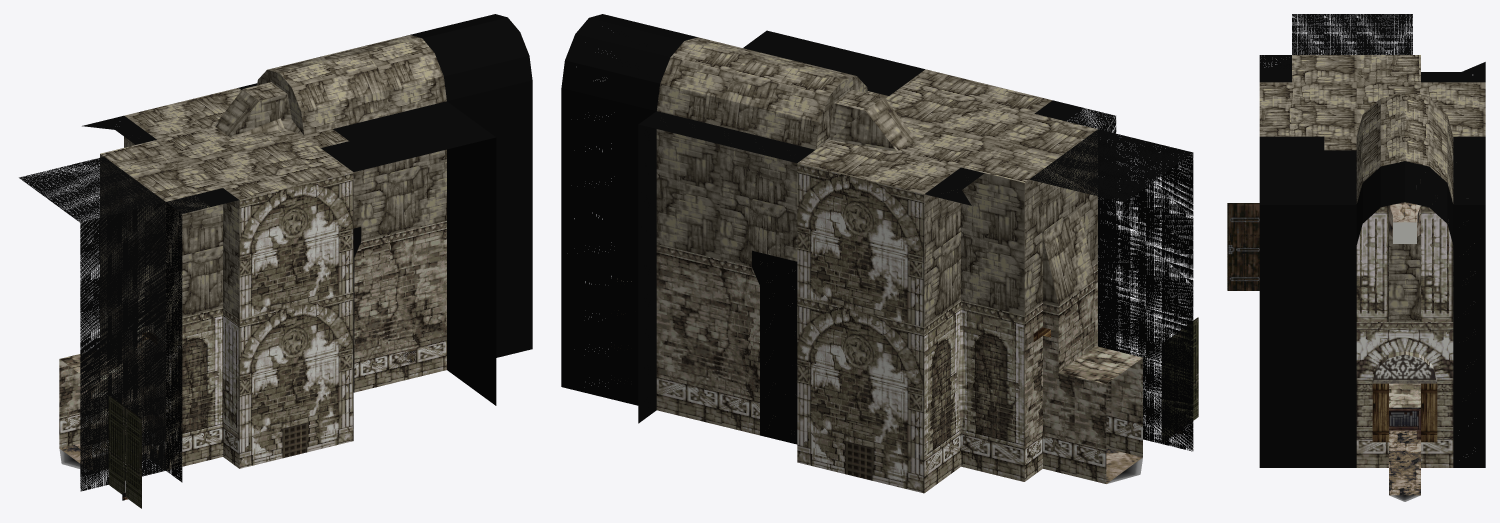
File: MAP047.obj
3 views of the same model, side by side, from view 1: azimuth 30°, elevation 25°; view 2: azimuth 150°, elevation 25°; view 3: azimuth 270°, elevation 25° (orthographic). The views are drawn at different scales.
Visible parts, largest first — view 1: mesh_44, mesh_58, mesh_63, mesh_56, mesh_55, mesh_31, mesh_34, mesh_64, mesh_32, mesh_57, mesh_37, mesh_65 (+11 smaller); view 2: mesh_44, mesh_55, mesh_58, mesh_60, mesh_21, mesh_19, mesh_67, mesh_38, mesh_16, mesh_74, mesh_42, mesh_68 (+15 smaller); view 3: mesh_56, mesh_44, mesh_23, mesh_27, mesh_24, mesh_58, mesh_55, mesh_4, mesh_28, mesh_54, mesh_29, mesh_25 (+9 smaller).
Part boxes in pixels (box(x1,y1,x2,y2)): mesh_44: box(100, 35, 446, 201); mesh_58: box(19, 157, 165, 491); mesh_63: box(239, 172, 353, 378); mesh_56: box(321, 101, 496, 405); mesh_55: box(410, 14, 532, 357); mesh_31: box(354, 220, 446, 362); mesh_34: box(239, 351, 353, 438); mesh_64: box(166, 195, 239, 320); mesh_32: box(353, 149, 446, 241); mesh_57: box(166, 188, 238, 482); mesh_37: box(166, 367, 239, 440); mesh_65: box(166, 307, 239, 380); mesh_44: box(657, 37, 1097, 194); mesh_55: box(561, 14, 697, 405); mesh_58: box(1029, 129, 1193, 451); mesh_60: box(797, 171, 924, 393); mesh_21: box(656, 129, 797, 267); mesh_19: box(656, 244, 759, 401); mesh_67: box(924, 173, 1024, 326); mesh_38: box(1024, 262, 1142, 450); mesh_16: box(797, 163, 924, 459); mesh_74: box(752, 250, 797, 444); mesh_42: box(924, 303, 1024, 459); mesh_68: box(924, 300, 1024, 393); mesh_56: box(1259, 136, 1356, 467); mesh_44: box(1259, 55, 1485, 203); mesh_23: box(1453, 205, 1485, 467); mesh_27: box(1356, 205, 1453, 321); mesh_24: box(1356, 179, 1453, 438); mesh_58: box(1292, 14, 1412, 54); mesh_55: box(1356, 161, 1453, 244); mesh_4: box(1227, 203, 1259, 290); mesh_28: box(1389, 234, 1420, 321); mesh_54: box(1453, 136, 1485, 204); mesh_29: box(1372, 383, 1437, 442); mesh_25: box(1356, 439, 1453, 467).
Bounding box in the file's own units: 218 × 138 × 102.
Materials: 20 (20 with a texture image).
